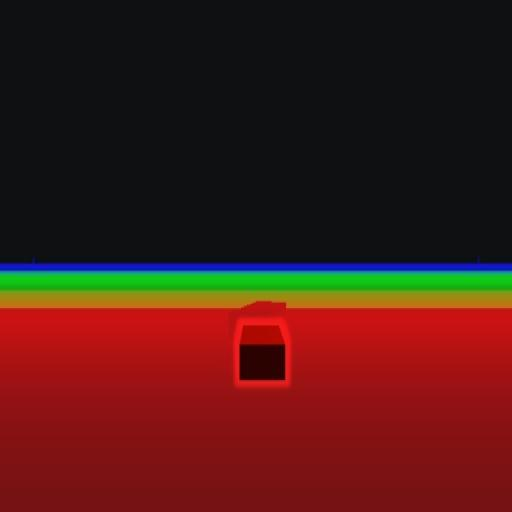debris_container: (238, 326, 288, 382)
